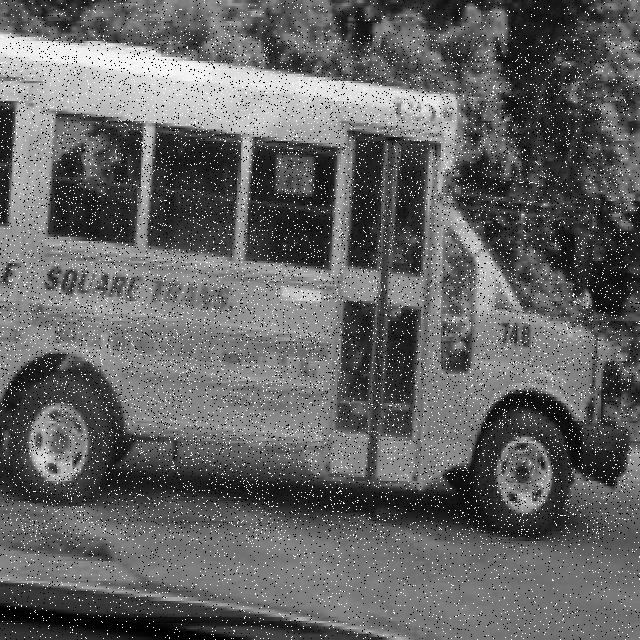Bus- Small: (0, 35, 633, 540)
